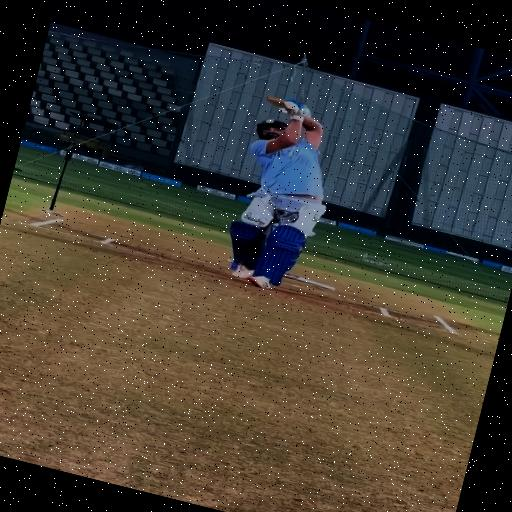Cricket bat: (266, 97, 282, 107)
